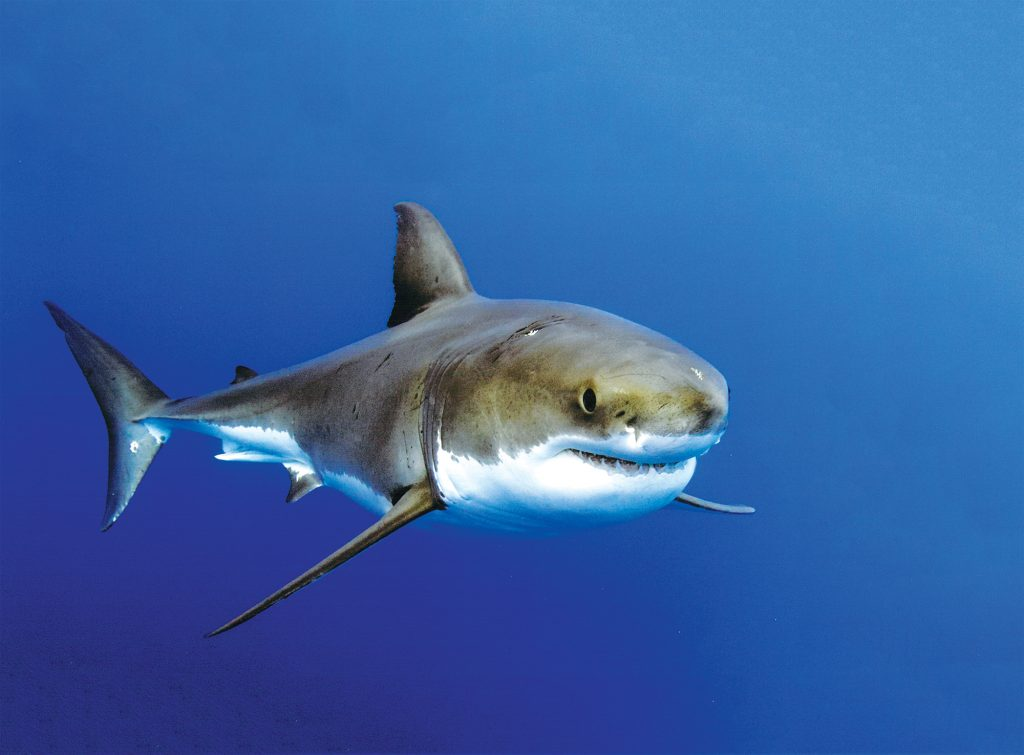shark: (32, 205, 777, 628)
